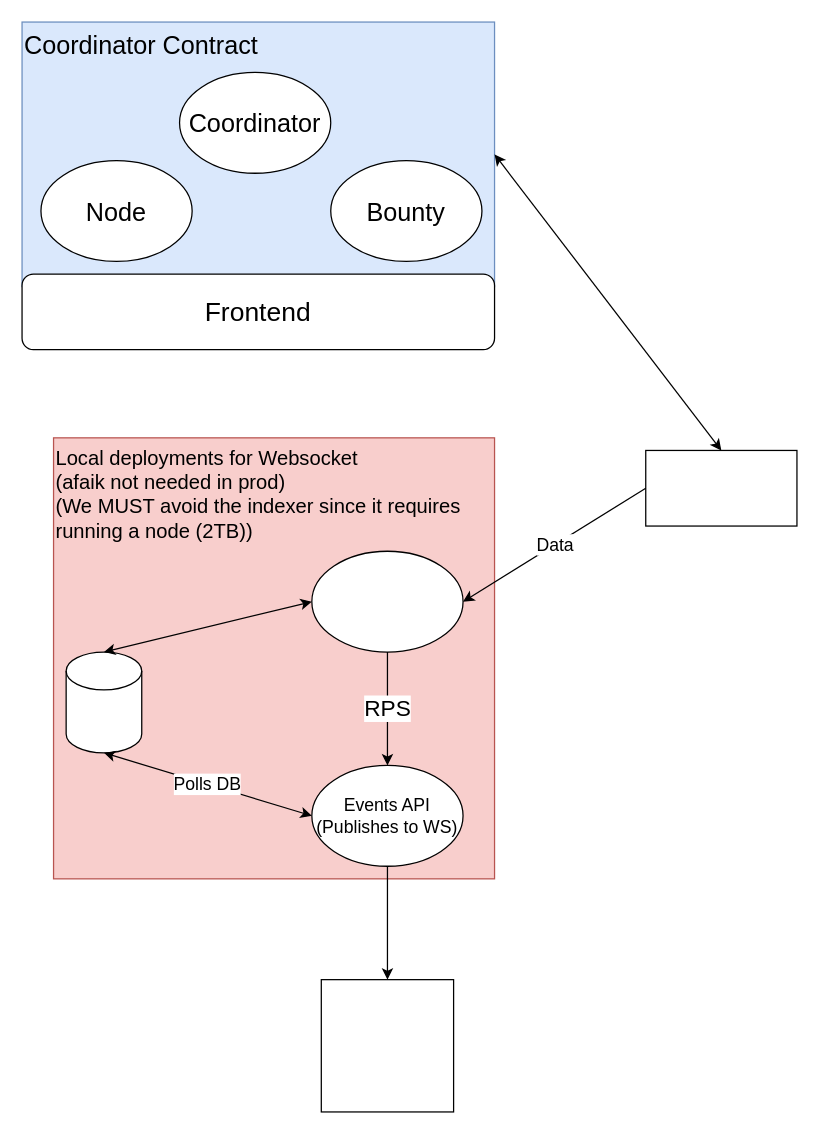
Some shapes in this 819 by 1134 pixel diagram are drawn without their labels. The shapes that lost their labels are listed below. From the top down, each one's centre as x and y in pixels, then its label:
point (720, 487): Localnet
point (387, 601): Indexer (Receives data from chain and stores in psql
point (103, 702): Postgres
point (387, 1045): Client/Node
